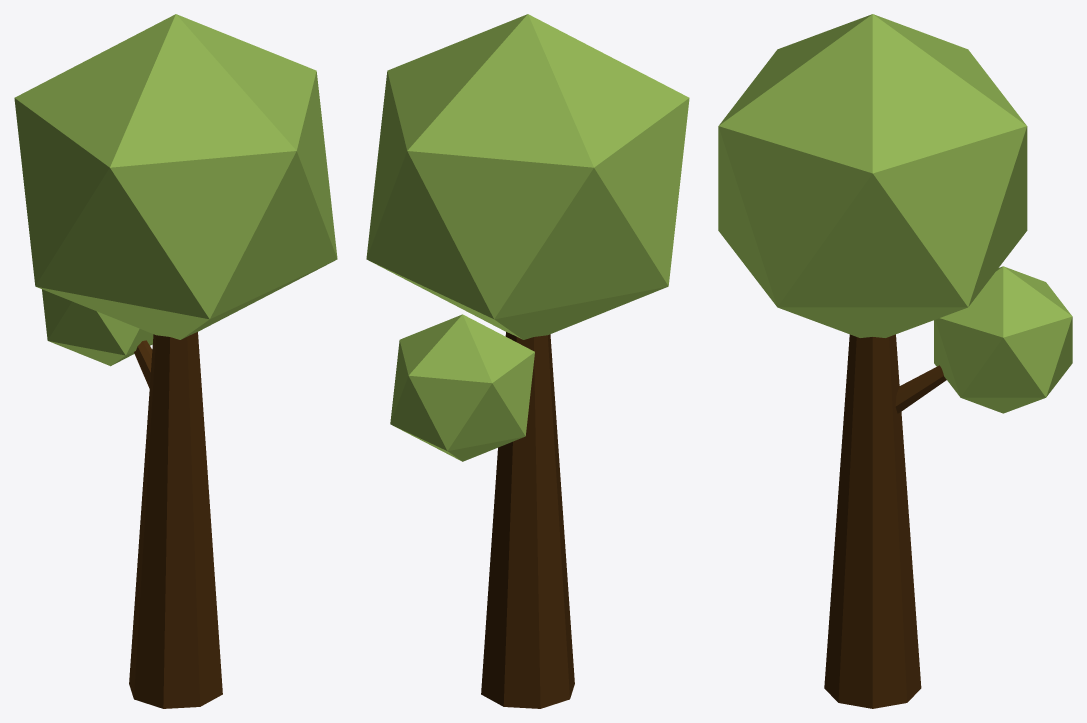
Rendered from tree001.fbx.
3 views of the same model, side by side, from view 1: azimuth 30°, elevation 25°; view 2: azimuth 150°, elevation 25°; view 3: azimuth 270°, elevation 25° (orthographic).
Parts seen in each view (by area): view 1: Cylinder.003; view 2: Cylinder.003; view 3: Cylinder.003.
Boxes of the visible parts, left/top/right/bottom form: Cylinder.003: left=14, top=14, right=337, bottom=708; Cylinder.003: left=366, top=14, right=689, bottom=708; Cylinder.003: left=718, top=14, right=1072, bottom=708.
Size of the model in its own units: 526 by 1206 by 574.
